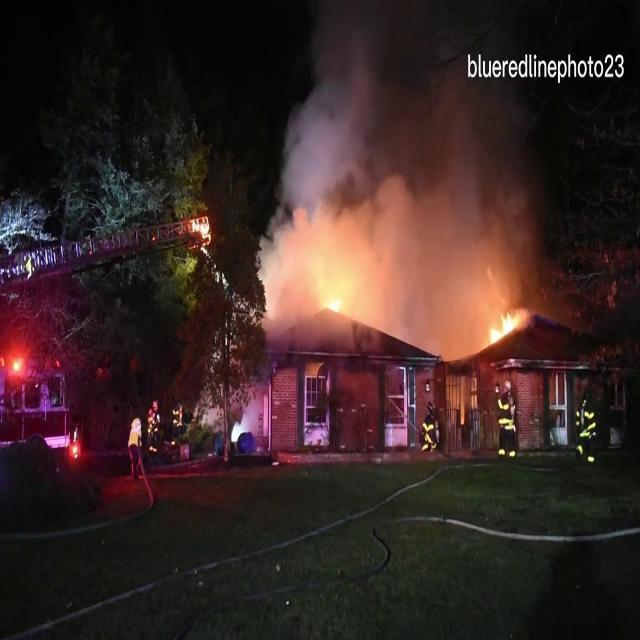Fire: (473, 296, 533, 356)
Smoke: (256, 0, 558, 310)
